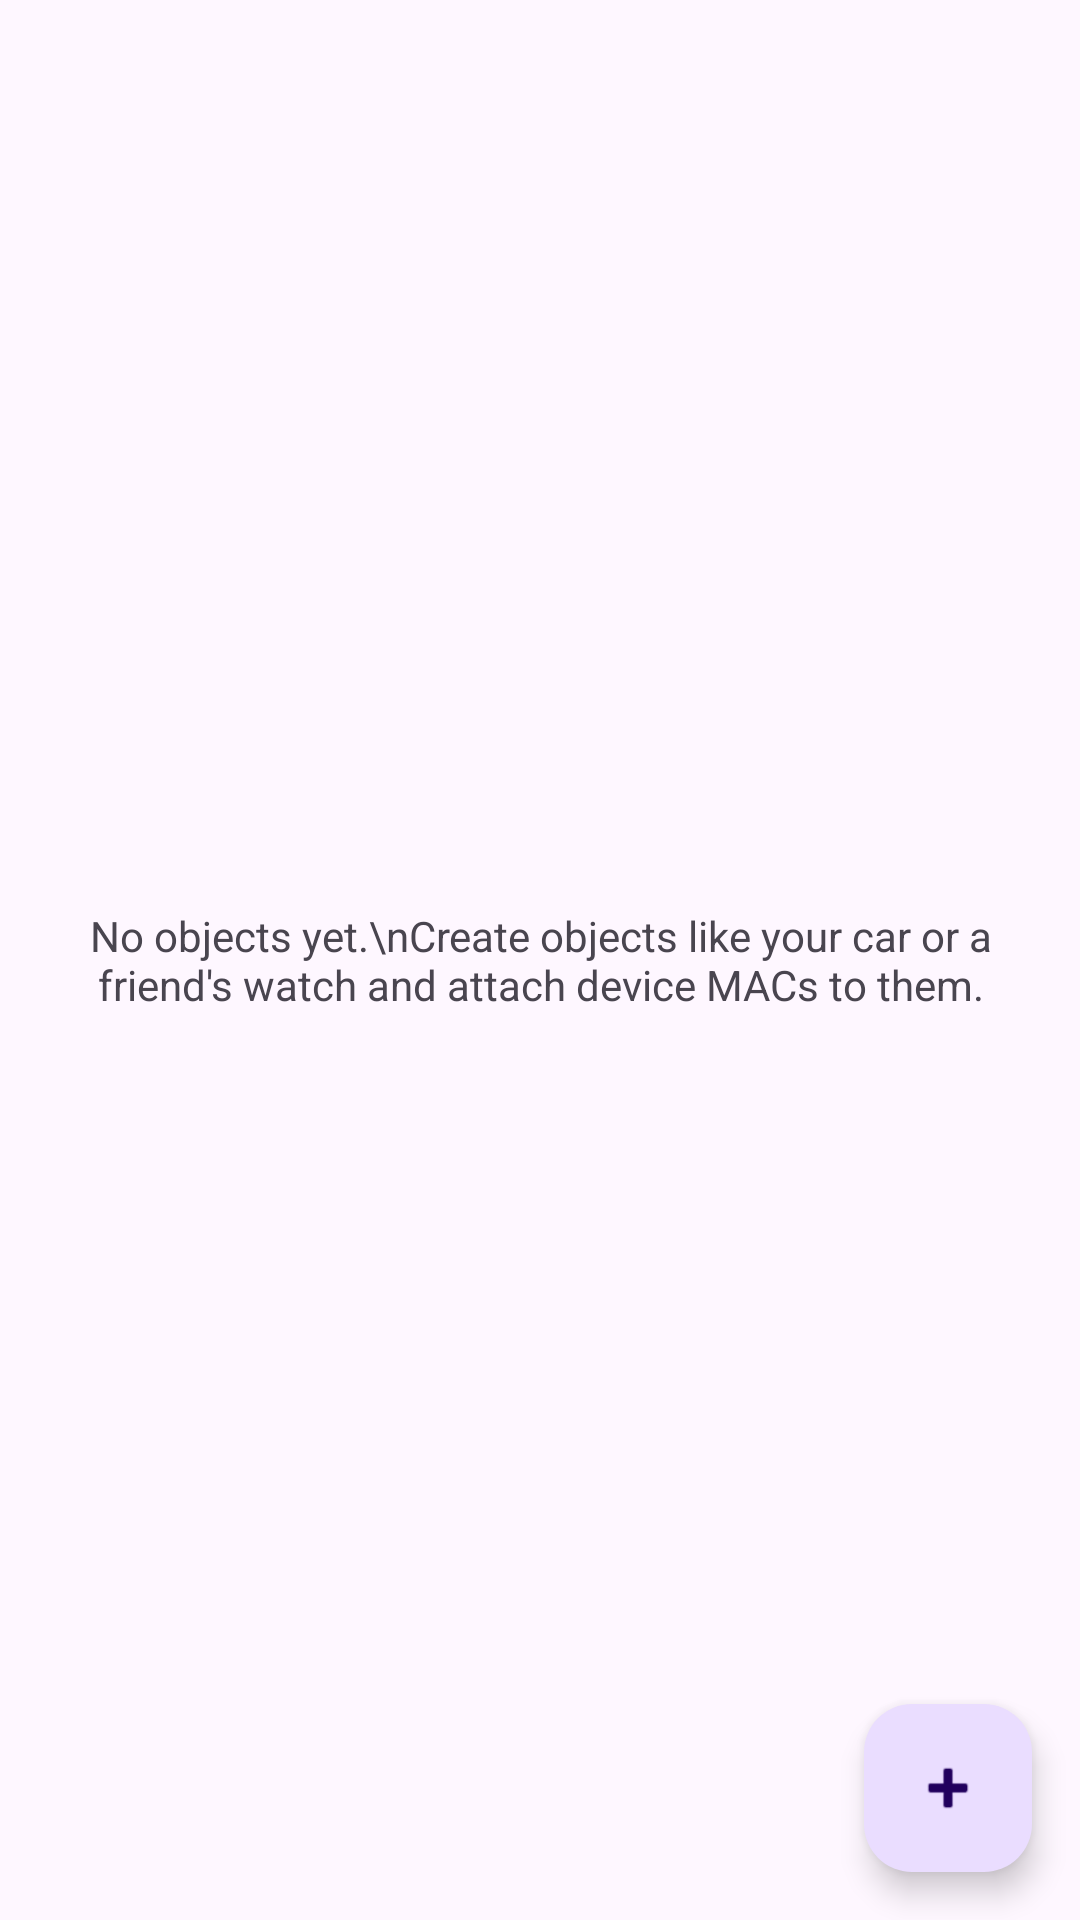

Icons on this 1080×1920 Android screen, each with the point to tap as (x=x, y=y):
Add object: (x=948, y=1788)
